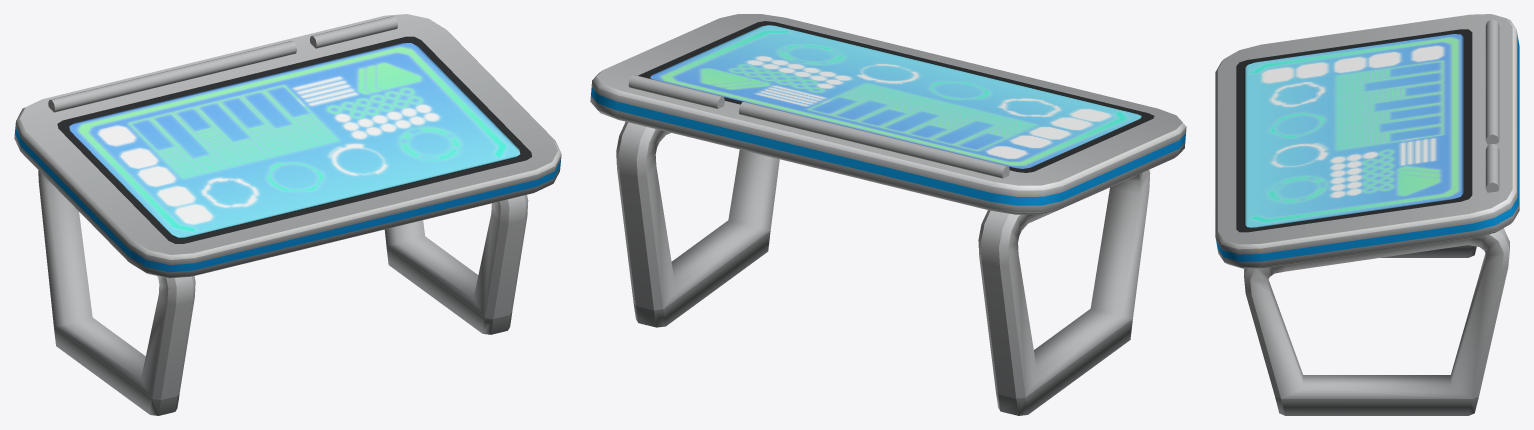
File: Terminal_002.fbx
The picture shows the model from 3 angles, left to right: view 1: azimuth 30°, elevation 25°; view 2: azimuth 150°, elevation 25°; view 3: azimuth 270°, elevation 25°; orthographic projection. The views are drawn at different scales.
Parts seen in each view (by area): view 1: Terminal_002; view 2: Terminal_002; view 3: Terminal_002.
Boxes of the visible parts, x1=… form: Terminal_002: x1=14, y1=14, x2=561, y2=415; Terminal_002: x1=590, y1=14, x2=1186, y2=415; Terminal_002: x1=1215, y1=14, x2=1519, y2=415.
Bounding box in the file's own units: 161 × 102 × 84.92.
